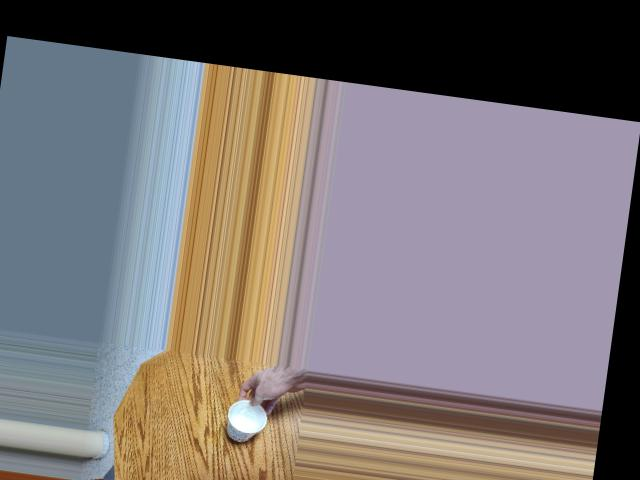cotage: (222, 391, 269, 441)
